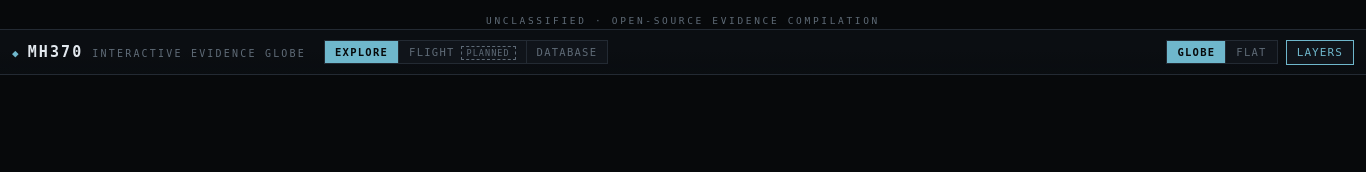
Test: TopBar › hides GLOBE/FLAT and LAYERS in database mode
The width and height of the screenshot is (1366, 172).
Step 1. Click the button "DATABASE" → (567, 52), box [527,41,607,63]
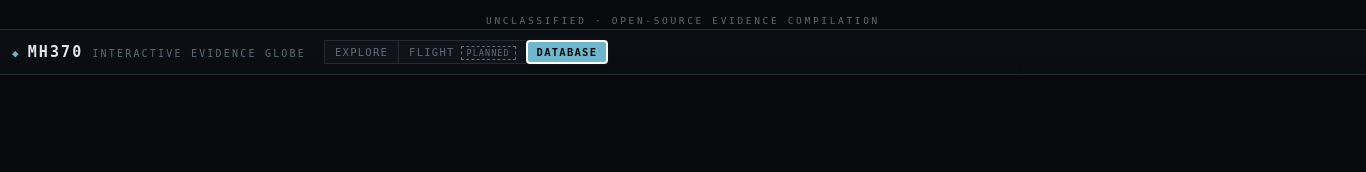
Result: the button "FLAT" is gone
